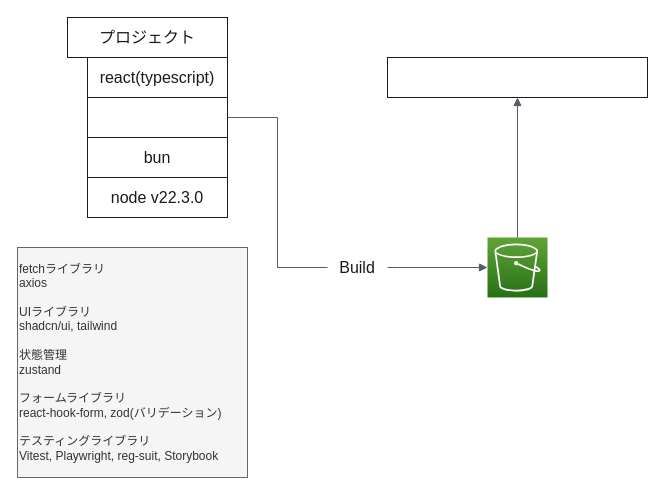
The diagram is 665 pixels wide and 495 high, and some of its shapes have lost their labels. Each missing label, with the centre of its shape:
"vite" belongs at point 157,117.
"静的ファイル(html, js, css)" belongs at point 517,77.
